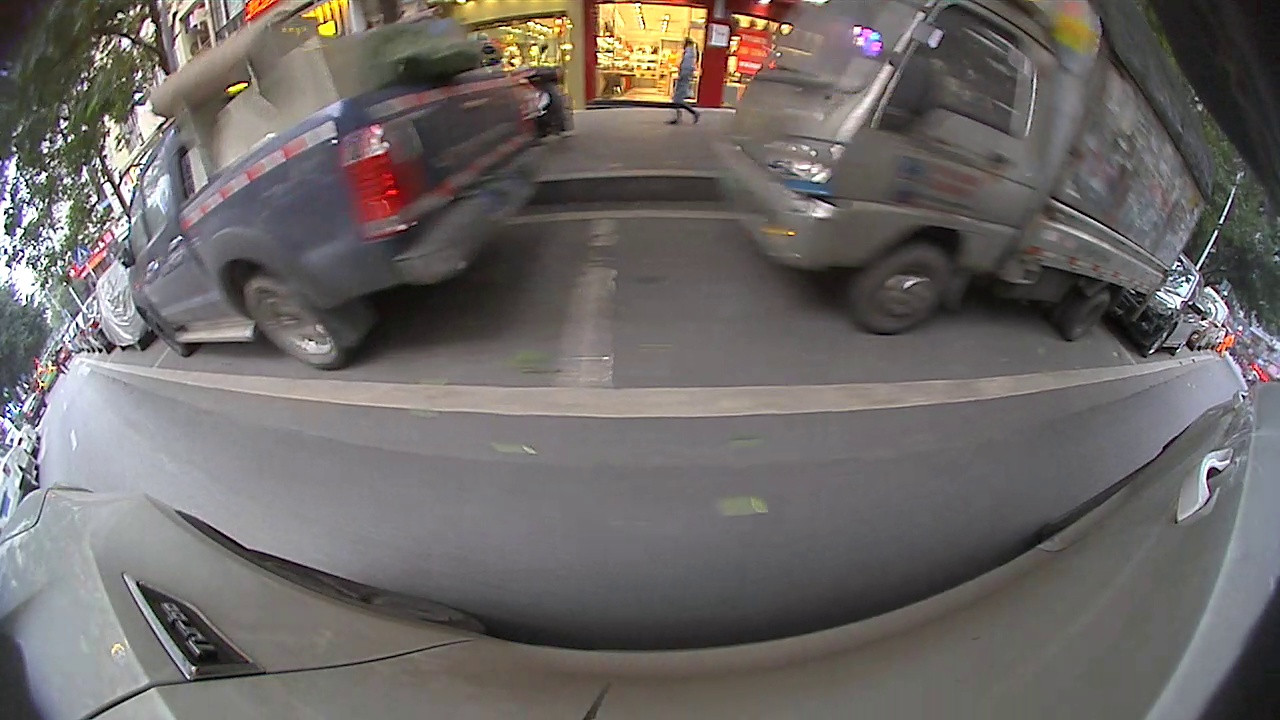car: (115, 11, 544, 371), (1105, 251, 1213, 362)
front: (860, 238, 952, 336)
rear: (242, 271, 354, 370), (1068, 282, 1112, 347)
truck: (704, 2, 1221, 342)
